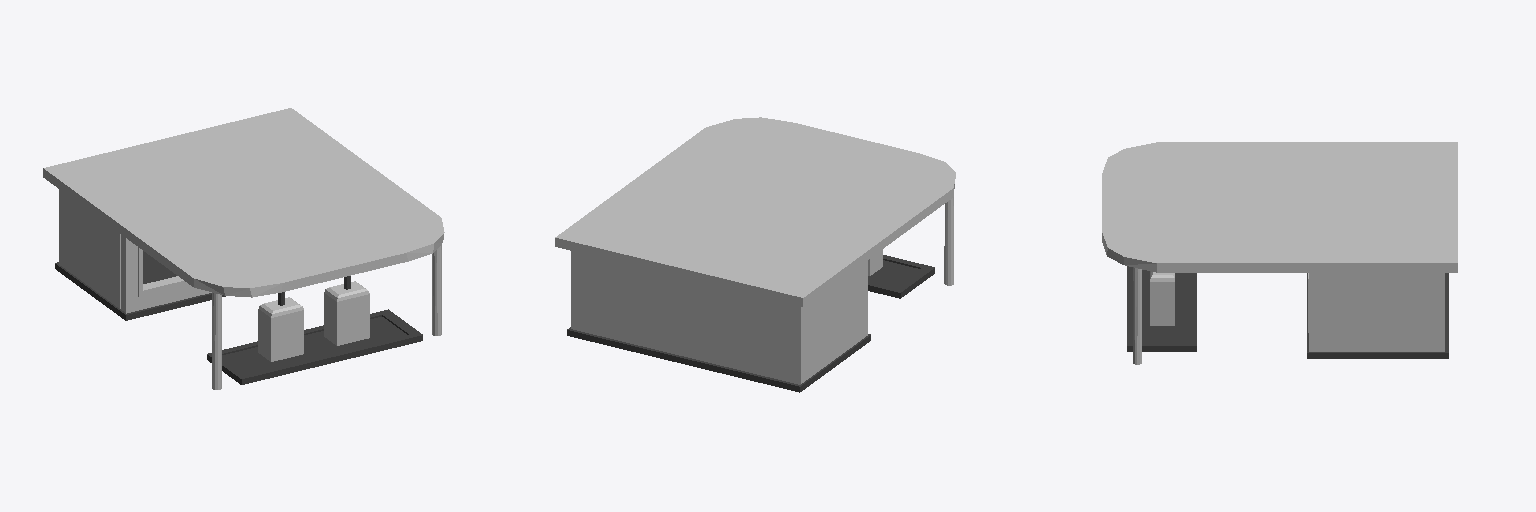
The model's file is GasStationNoLightsDoor1.obj.
3 views of the same model, side by side, from view 1: azimuth 30°, elevation 25°; view 2: azimuth 150°, elevation 25°; view 3: azimuth 270°, elevation 25° (orthographic).
Visible parts, largest first — view 1: roof, GasHub_Floor.001, GAShub, Cube.008, Cube.009, Cylinder, GasHub_Floor.002; view 2: roof, wall.., Cube.008, GasHub_Floor.002, GasHub_Floor.001, Cylinder; view 3: roof, Cube.007, GasHub_Floor.001, GasHub_Floor.002, GAShub, Cube.009, wall.., Cylinder.
Boxes of the visible parts, x1,y1,x2,y2 form: roof: [43, 108, 444, 297]; GasHub_Floor.001: [207, 309, 422, 384]; GAShub: [258, 281, 369, 361]; Cube.008: [59, 189, 120, 308]; Cube.009: [121, 235, 211, 313]; Cylinder: [212, 244, 441, 389]; GasHub_Floor.002: [55, 251, 225, 320]; roof: [555, 117, 955, 306]; wall..: [571, 251, 799, 384]; Cube.008: [800, 265, 861, 384]; GasHub_Floor.002: [567, 327, 870, 392]; GasHub_Floor.001: [868, 255, 934, 298]; Cylinder: [944, 197, 953, 285]; roof: [1102, 142, 1457, 272]; Cube.007: [1321, 273, 1433, 351]; GasHub_Floor.001: [1127, 266, 1196, 351]; GasHub_Floor.002: [1307, 273, 1448, 358]; GAShub: [1150, 271, 1174, 325]; Cube.009: [1308, 273, 1320, 351]; wall..: [1434, 273, 1444, 351]; Cylinder: [1133, 267, 1141, 364].
Bounding box in the file's own units: 12.82 × 5.24 × 15.88.